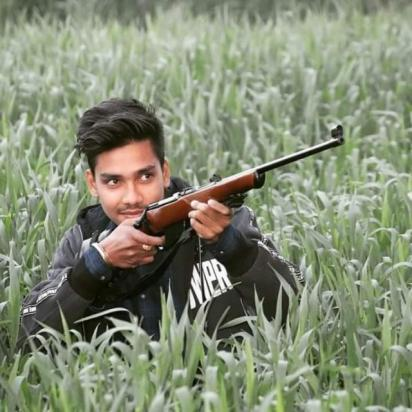Gun: (76, 123, 347, 279)
